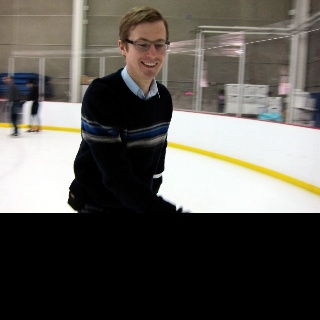without_mask: (117, 5, 170, 79)
